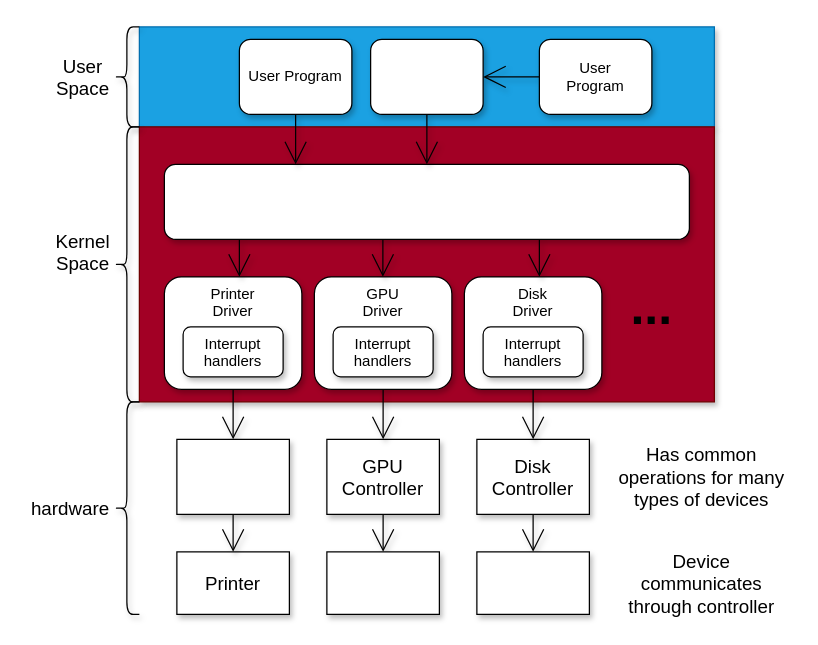
Image size: 818x645. Some labels were removed from this diagram. The centre of each missing label's shape, as x and y in pixels:
Device-Independent OS Software: (427,203)
Disk: (534,584)
GPU: (384,584)
Library: (427,78)
Printer Controller: (234,478)
